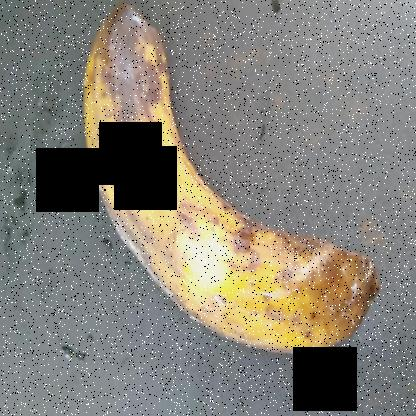rotten: (51, 1, 384, 374)
